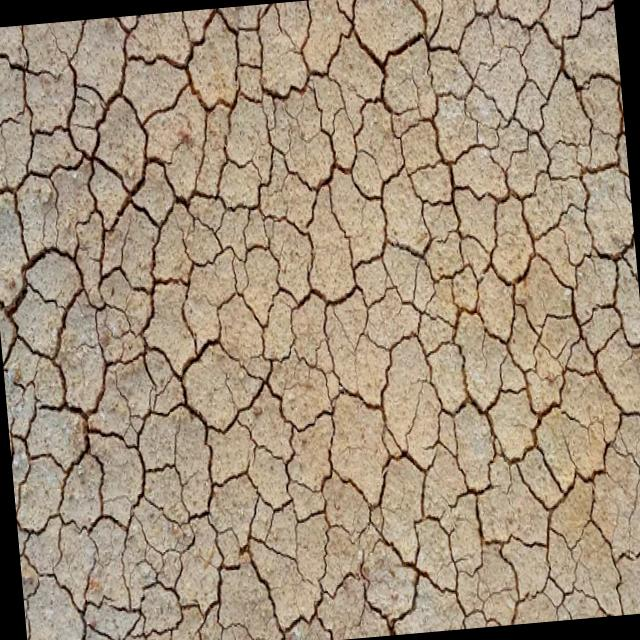suelo_seco: (226, 164, 429, 486)
